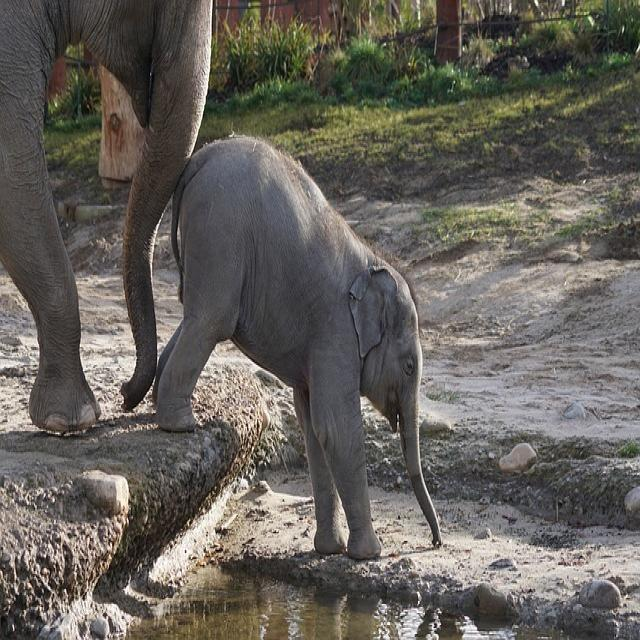elephant: (154, 137, 441, 560), (0, 0, 211, 431)
